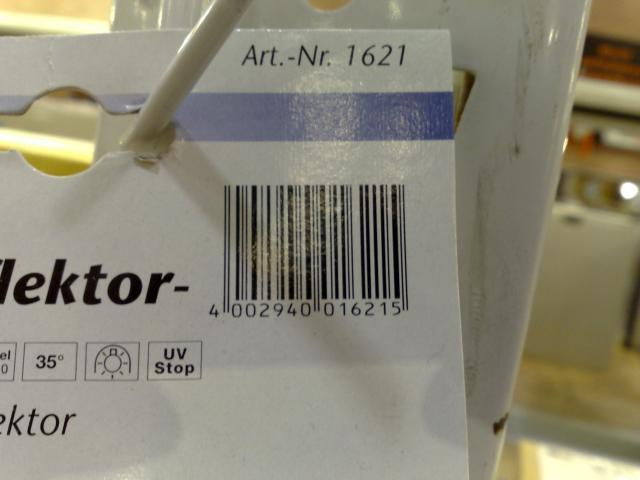Barcode: (199, 181, 416, 332)
